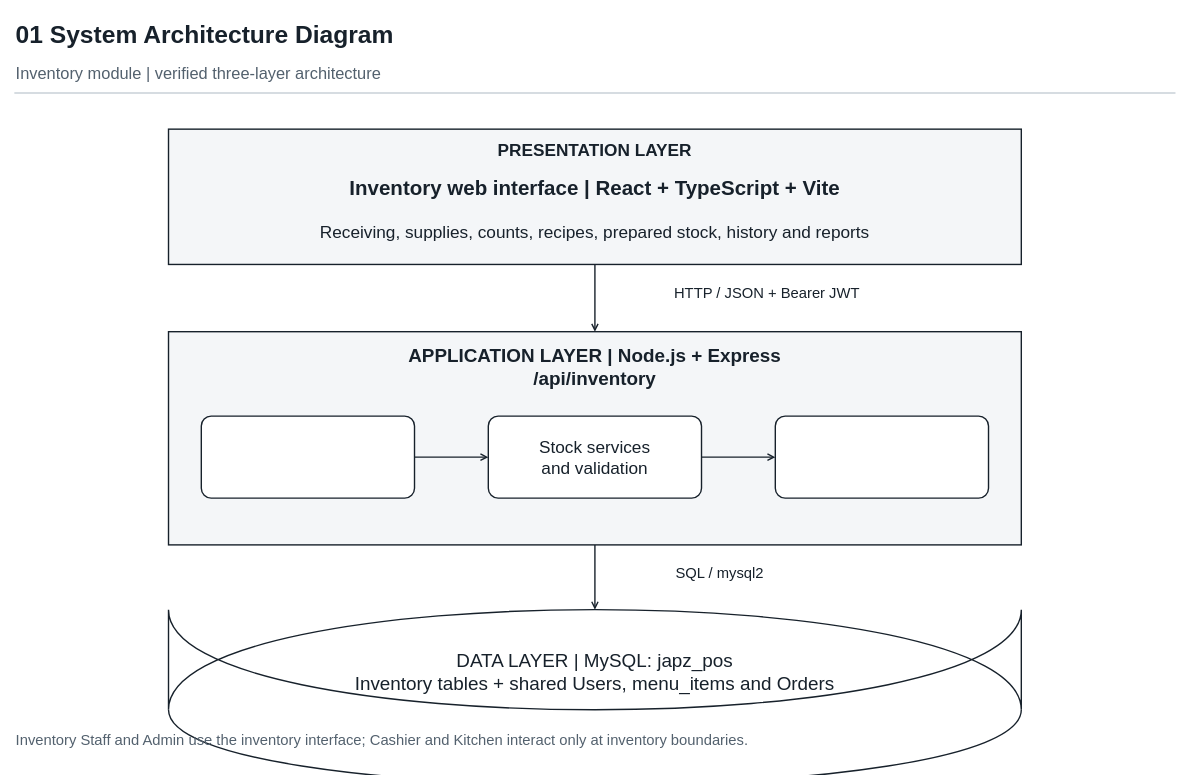
Image size: 1191x775. Some labels were removed from this diagram. The box of each missing label's shape, as (x1, y1, x2, y2) in pixels:
Authentication and role access: (200, 415, 415, 498)
Sequelize models and transactions: (774, 415, 989, 498)
